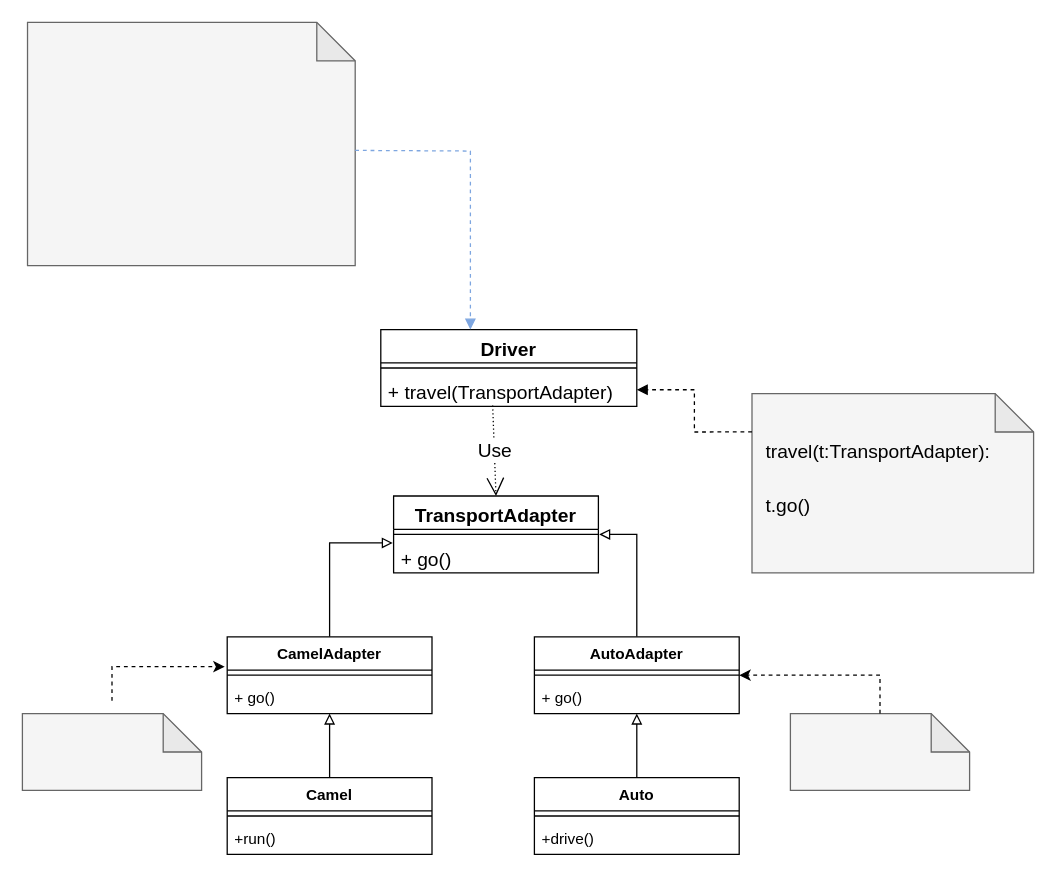
The diagram is 1056 pixels wide and 881 high, and some of its shapes have lost their labels. Each missing label, with the centre of its shape:
Client d = Driver() auto = Auto() d.travel(auto) camel = Camel() d.travel(camel): the point at 190,143
self.drive(): the point at 879,751
self.run(): the point at 111,751
